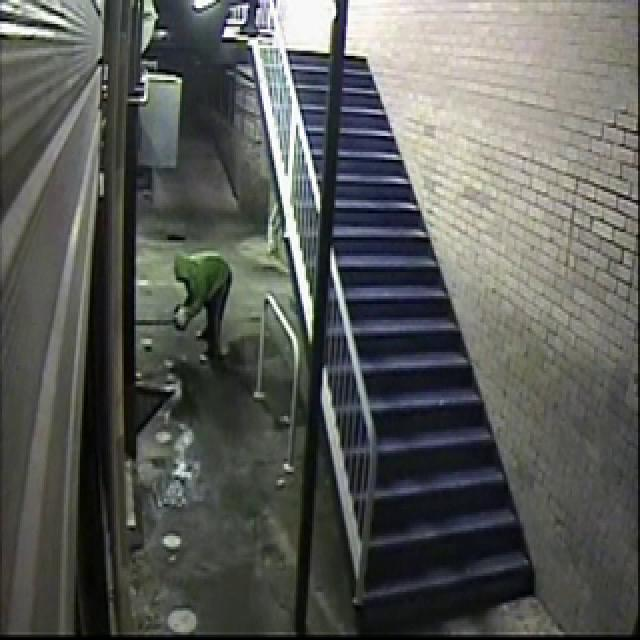arson: (150, 0, 290, 515)
